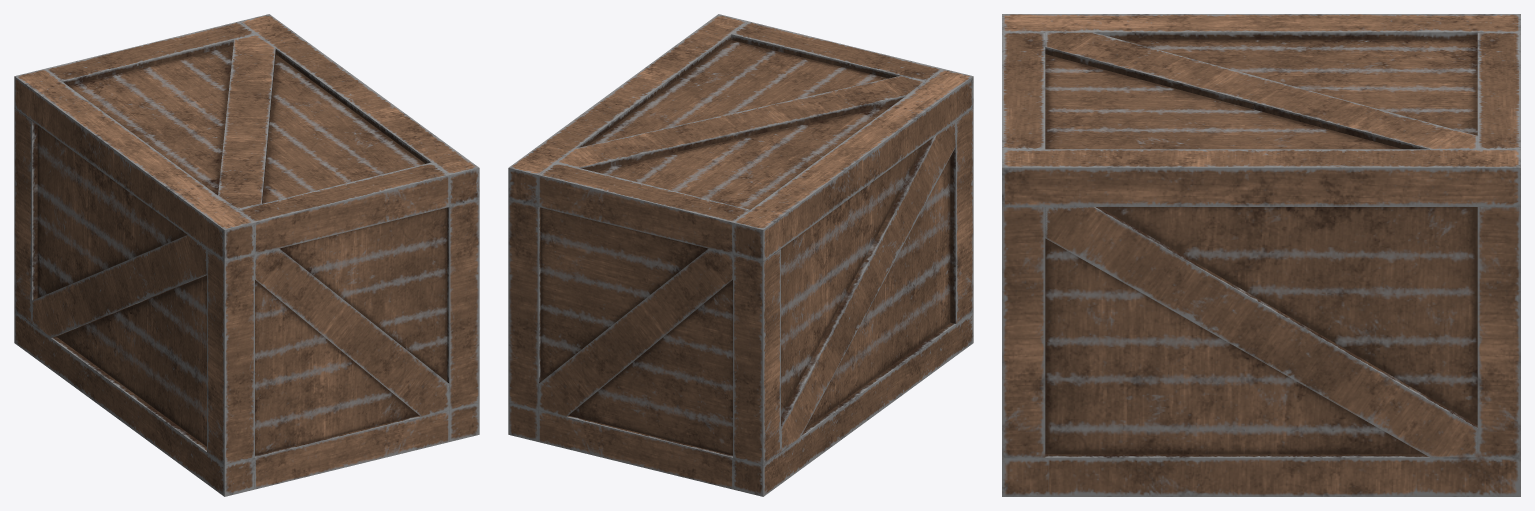
File: wooden_crate.glb
The picture shows the model from 3 angles, left to right: view 1: azimuth 30°, elevation 25°; view 2: azimuth 150°, elevation 25°; view 3: azimuth 270°, elevation 25°; orthographic projection. The views are drawn at different scales.
Visible parts, largest first — view 1: Base_low, TopWood_low, Con_low, Sidewood_low, TopsideWood_low; view 2: Base_low, TopWood_low, Con_low, Sidewood_low, TopsideWood_low; view 3: Base_low, TopWood_low, Con_low, Sidewood_low, TopsideWood_low.
Part boxes in pixels (<box>): Base_low: <box>37,45,447,455</box>; TopWood_low: <box>14,14,479,496</box>; Con_low: <box>32,34,449,416</box>; Sidewood_low: <box>14,108,479,464</box>; TopsideWood_low: <box>45,21,449,489</box>; Base_low: <box>540,40,950,455</box>; TopWood_low: <box>508,14,973,496</box>; Con_low: <box>538,75,955,451</box>; Sidewood_low: <box>508,108,973,464</box>; TopsideWood_low: <box>538,21,942,489</box>; Base_low: <box>1045,39,1477,454</box>; TopWood_low: <box>1002,14,1520,496</box>; Con_low: <box>1045,32,1477,457</box>; Sidewood_low: <box>1002,207,1520,457</box>; TopsideWood_low: <box>1002,32,1520,149</box>.
Bounding box in the file's own units: 2.27 × 2.27 × 3.24.
Materials: 1 (1 with a texture image).
